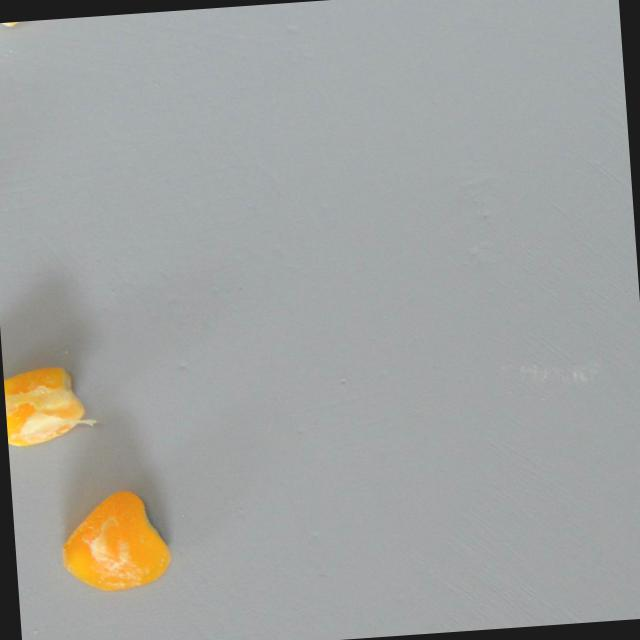pelicula: (57, 486, 167, 599), (1, 344, 69, 472)
